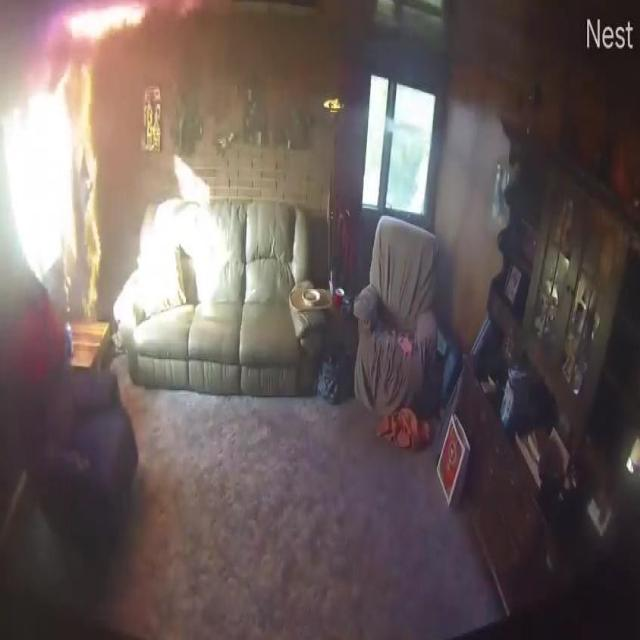smoke: (46, 49, 104, 318), (50, 0, 149, 45)
